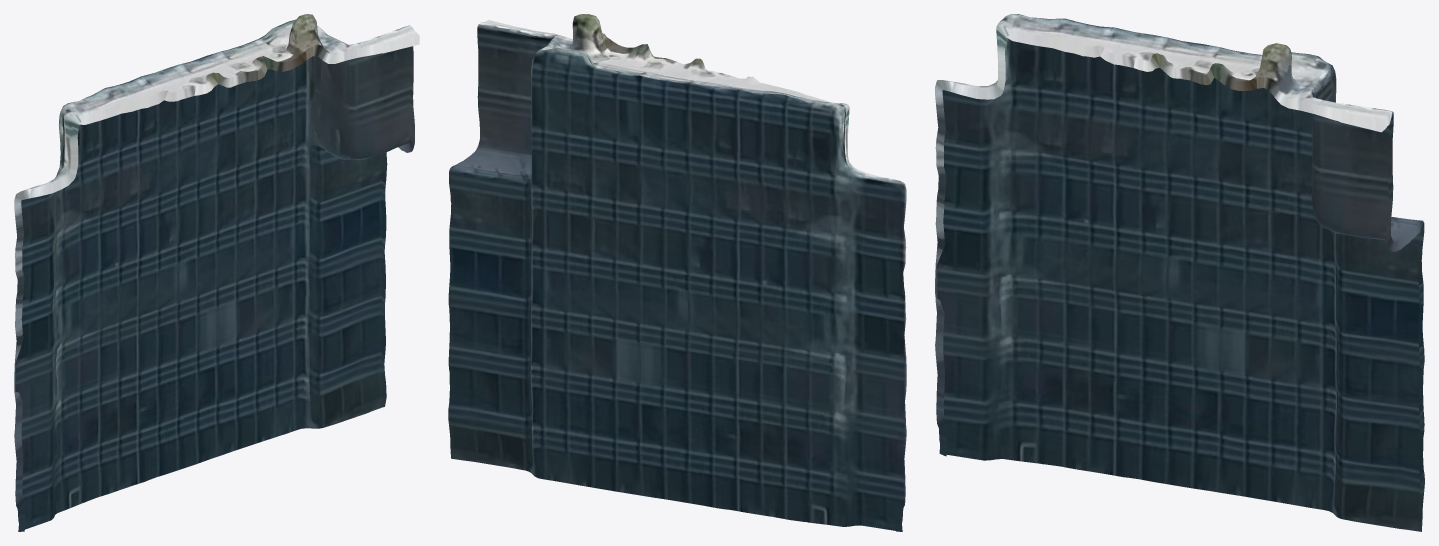
The model's file is z20-167761-405236-h1-yup-uvflip-v3-world.glb.
3 views of the same model, side by side, from view 1: azimuth 30°, elevation 25°; view 2: azimuth 150°, elevation 25°; view 3: azimuth 330°, elevation 25° (orthographic). The views are drawn at different scales.
Size of the model in its own units: 28.36 by 29.28 by 4.76.
Materials: 1 (1 with a texture image).
